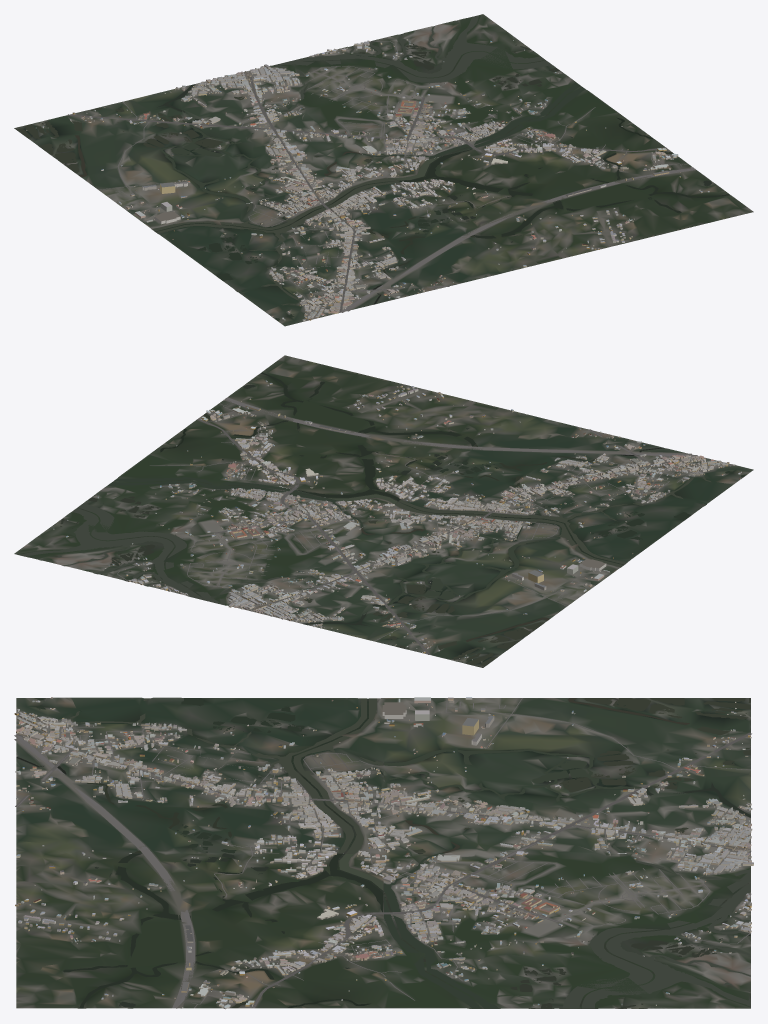
3 views of the same model, one above another, from view 1: azimuth 30°, elevation 25°; view 2: azimuth 150°, elevation 25°; view 3: azimuth 270°, elevation 25° (orthographic). The views are drawn at different scales.
Parts seen in each view (by area): view 1: ground, buildings, water, roads; view 2: ground, buildings, water, roads; view 3: ground, buildings, water, roads.
Part boxes in pixels (bbox=[...]): ground: bbox=[14, 14, 753, 326]; buildings: bbox=[26, 39, 709, 321]; water: bbox=[14, 15, 729, 321]; roads: bbox=[67, 41, 695, 320]; ground: bbox=[14, 355, 753, 667]; buildings: bbox=[53, 380, 741, 662]; water: bbox=[18, 372, 746, 667]; roads: bbox=[117, 397, 730, 654]; ground: bbox=[16, 697, 750, 1008]; buildings: bbox=[14, 697, 753, 1009]; water: bbox=[16, 698, 750, 1008]; roads: bbox=[14, 698, 751, 1008].
Size of the model in its own units: 2810 by 43.57 by 2822.
